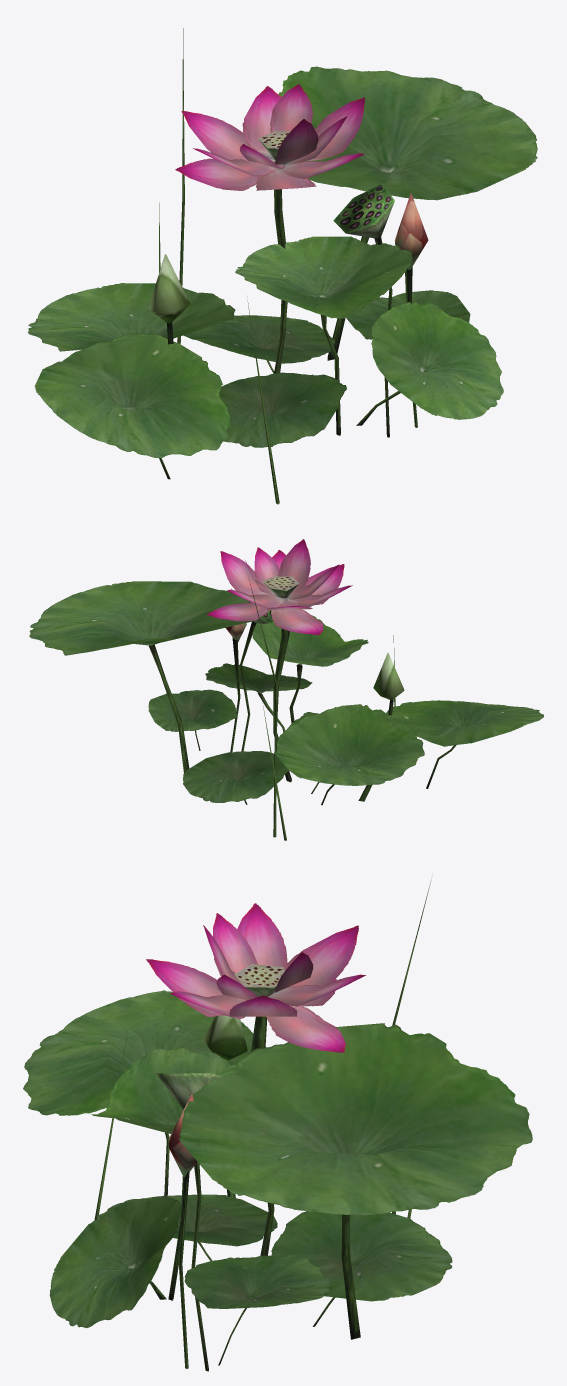
Rendered from wm_灌木荷花02.fbx.
3 renders of one model, top to bottom at view 1: azimuth 30°, elevation 25°; view 2: azimuth 150°, elevation 25°; view 3: azimuth 270°, elevation 25°, orthographic. The views are drawn at different scales.
Parts seen in each view (by area): view 1: wm_灌木荷花02; view 2: wm_灌木荷花02; view 3: wm_灌木荷花02.
Boxes of the visible parts, left/top/right/bottom form: wm_灌木荷花02: left=28, top=28, right=537, bottom=504; wm_灌木荷花02: left=29, top=539, right=543, bottom=840; wm_灌木荷花02: left=23, top=880, right=532, bottom=1371.
Size of the model in its own units: 319 by 197 by 219.
